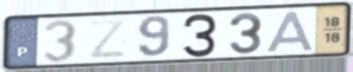3: (179, 11, 220, 59), (42, 16, 81, 65), (227, 11, 263, 56)
9: (136, 14, 172, 60)
A: (265, 10, 318, 54)
Z: (85, 17, 129, 61)
